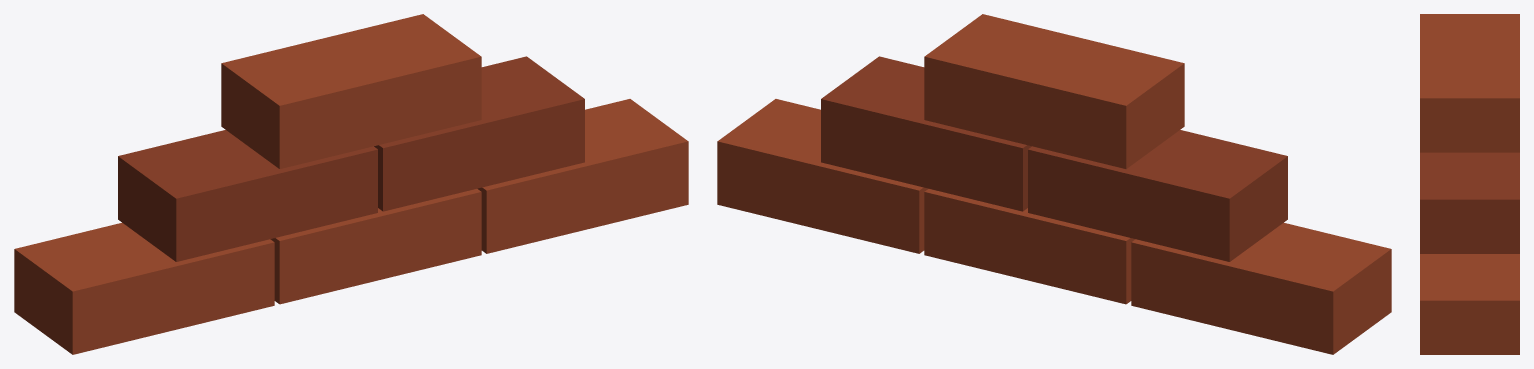
The model's file is brick_stack.obj.
3 renders of one model, left to right at view 1: azimuth 30°, elevation 25°; view 2: azimuth 150°, elevation 25°; view 3: azimuth 270°, elevation 25°, orthographic. The views are drawn at different scales.
Visible parts, largest first — view 1: brick_stack; view 2: brick_stack; view 3: brick_stack.
Part boxes in pixels (box(x1,y1,x2,y2)): brick_stack: box(14, 14, 688, 354); brick_stack: box(717, 14, 1391, 354); brick_stack: box(1420, 14, 1519, 354).
Size of the model in its own units: 0.61 by 0.188 by 0.1.
